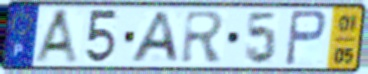5: (82, 8, 122, 66), (241, 10, 280, 66)
A: (31, 7, 82, 66), (127, 10, 182, 64)
P: (283, 9, 330, 68)
R: (179, 10, 227, 66)
